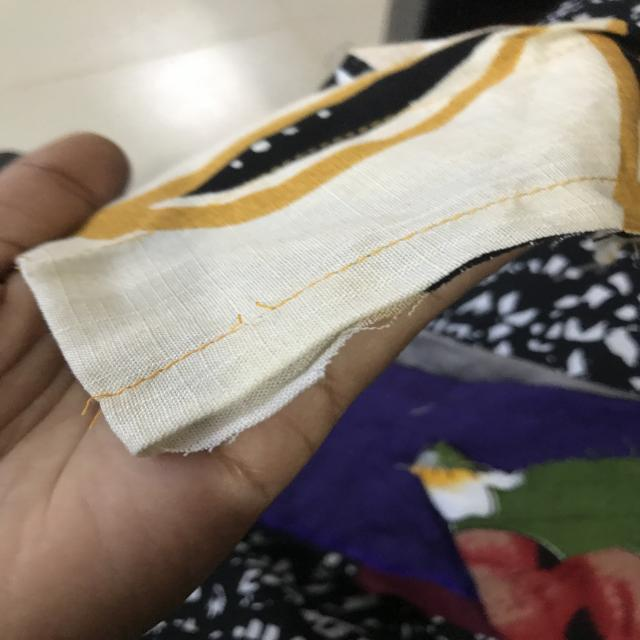broken: (230, 292, 285, 341)
